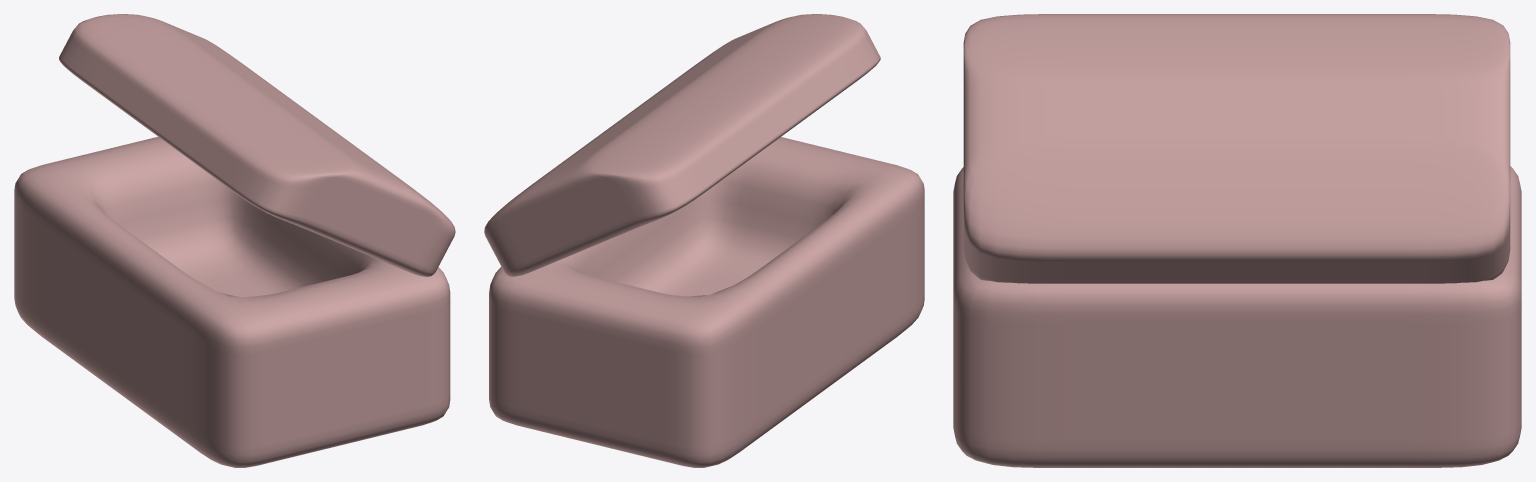
Rendered from TreasureChest.fbx.
The picture shows the model from 3 angles, left to right: view 1: azimuth 30°, elevation 25°; view 2: azimuth 150°, elevation 25°; view 3: azimuth 270°, elevation 25°; orthographic projection. The views are drawn at different scales.
Parts seen in each view (by area): view 1: polySurface1; view 2: polySurface1; view 3: polySurface1.
Boxes of the visible parts, <box> form: polySurface1: <box>14,14,455,467</box>; polySurface1: <box>484,14,924,467</box>; polySurface1: <box>953,14,1521,467</box>.
Bounding box in the file's own units: 24.91 × 27.9 × 40.18.
